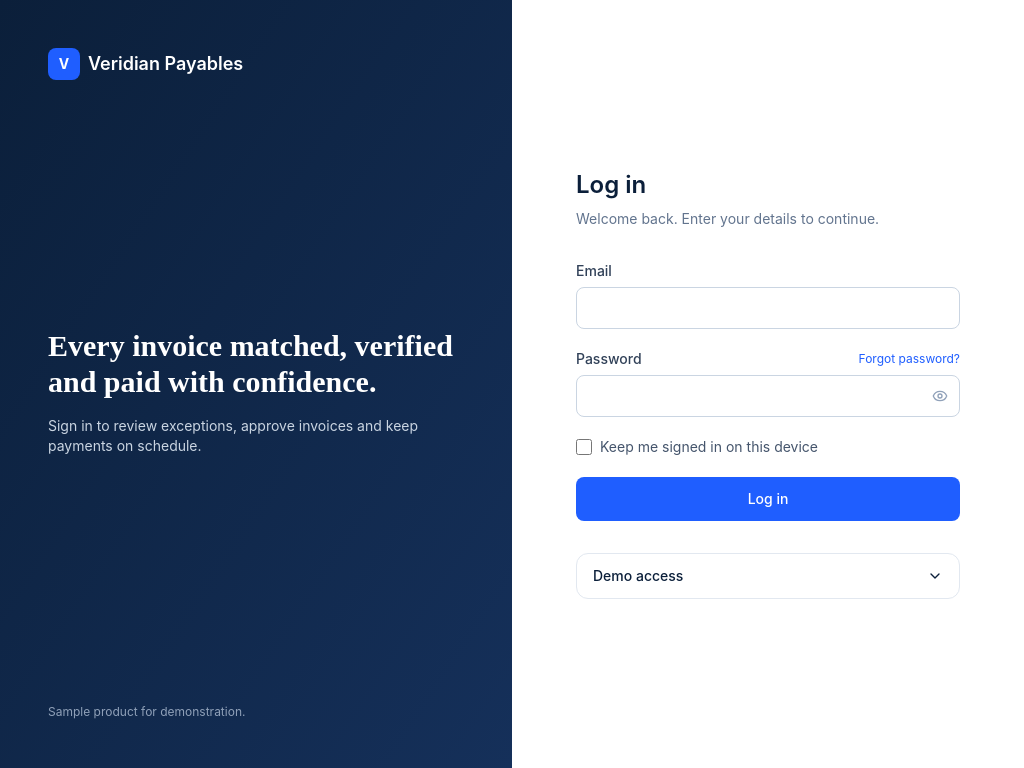
Test case: LoginPage › shows the demo access panel when demo mode is on
Click the button "Demo access".
click(638, 576)  # box [577,554,959,598]
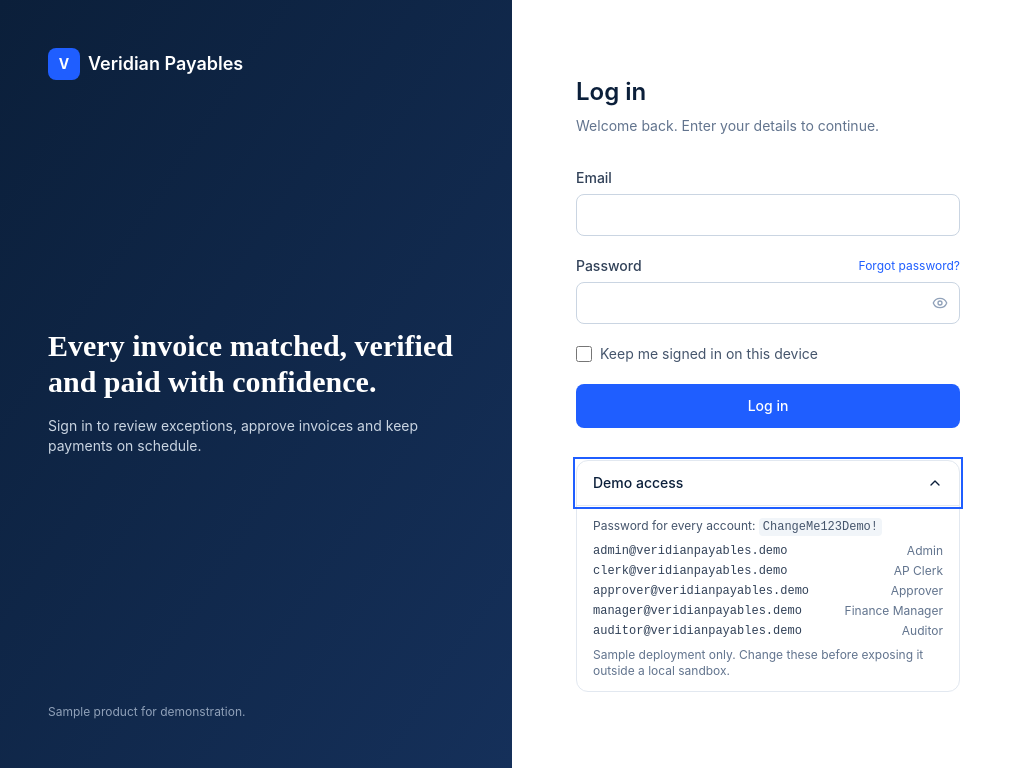
expect the text "admin@veridianpayables.demo" is shown: met, box [593,543,787,559]
